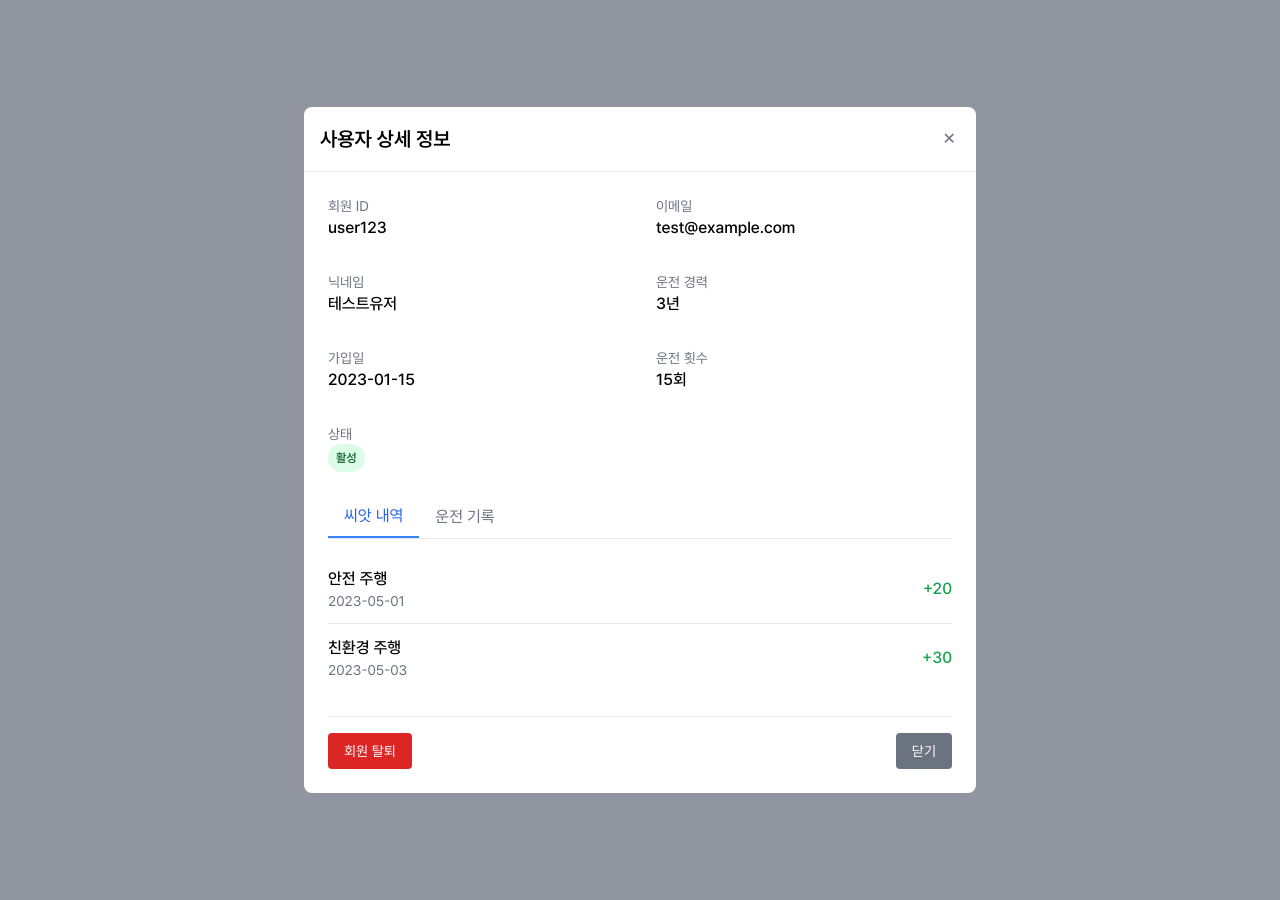
Test: UserDetailModal › TC-USERDETAIL-009::Unit::컴포넌트 렌더링::운전 기록이 없을 때::안내 메시지 표시
The width and height of the screenshot is (1280, 900).
# 운전 기록 탭으로 변경
What coordinates should you click on to do the following:
click the button "운전 기록"
I would click on:
 (465, 517)
Its box is [419,496,511,538].
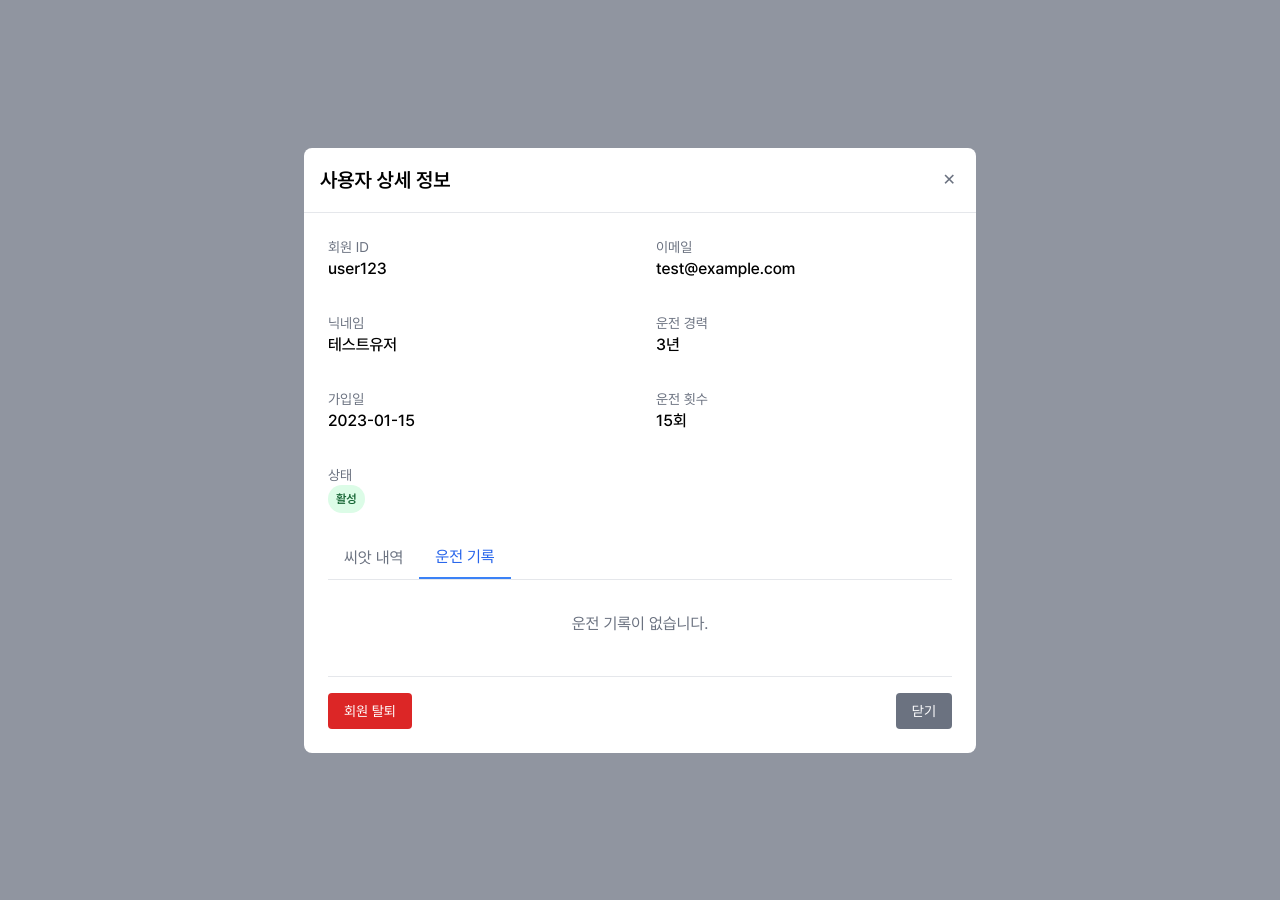
Expected: the text "운전 기록이 없습니다." is shown, [572,614,708,632]
